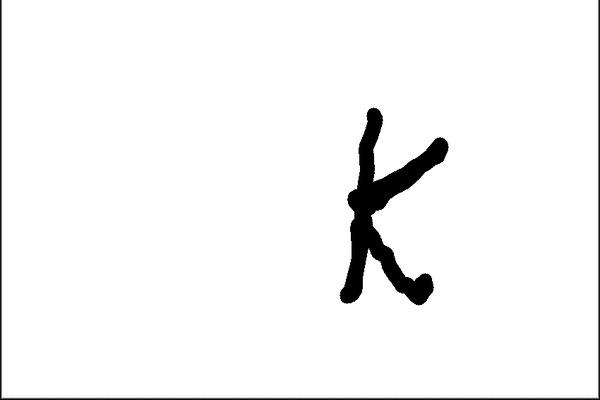K: (336, 101, 454, 310)
